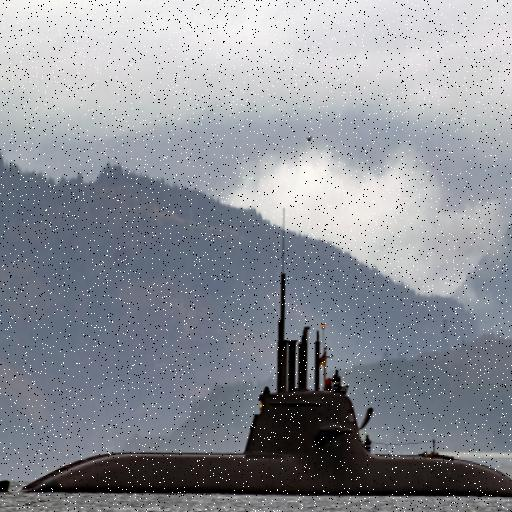submarine: (1, 395, 512, 500)
